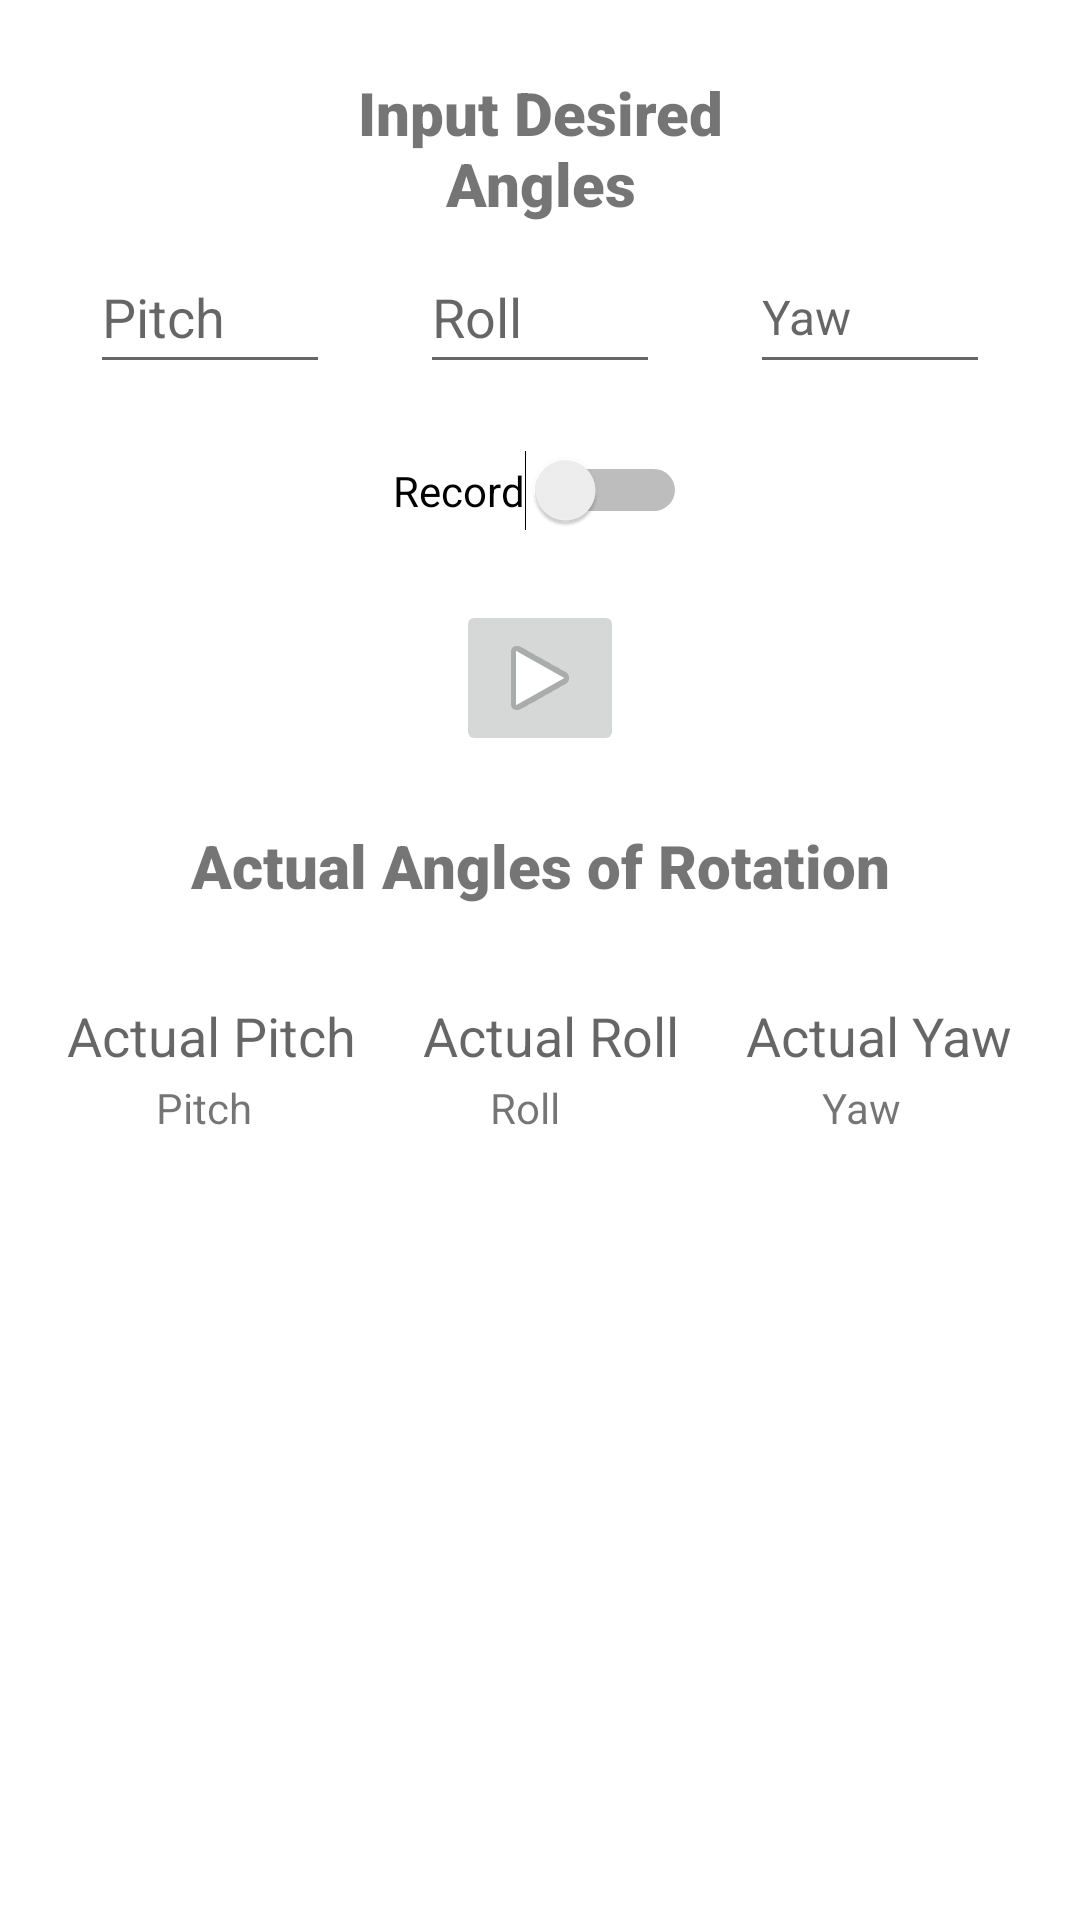

Where icons sit on this 1080px×1920px app screen, as {"left": x1, "top": y1, "right": x2, "bottom": y2}:
play: {"left": 468, "top": 618, "right": 612, "bottom": 738}
